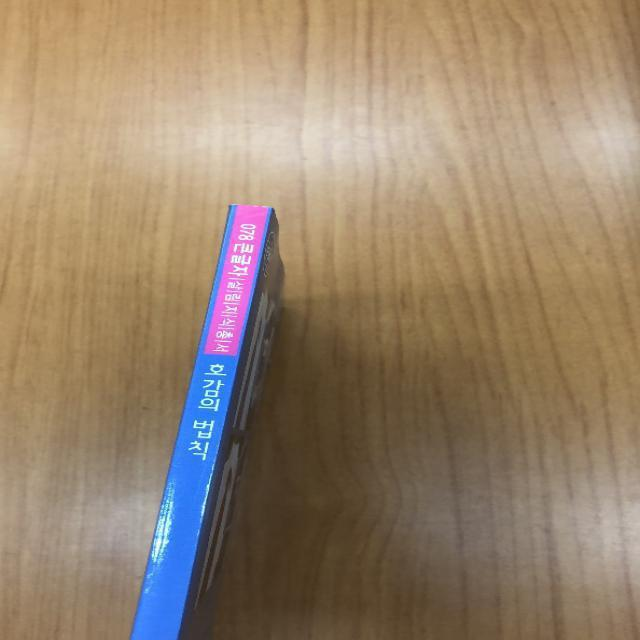Wornout: (224, 199, 278, 217)
